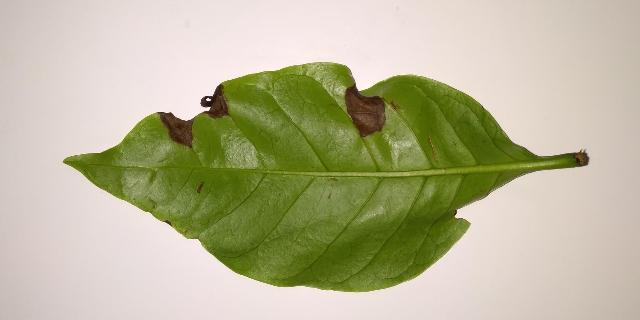rust: (345, 78, 386, 136), (158, 112, 195, 147), (201, 83, 228, 118)
